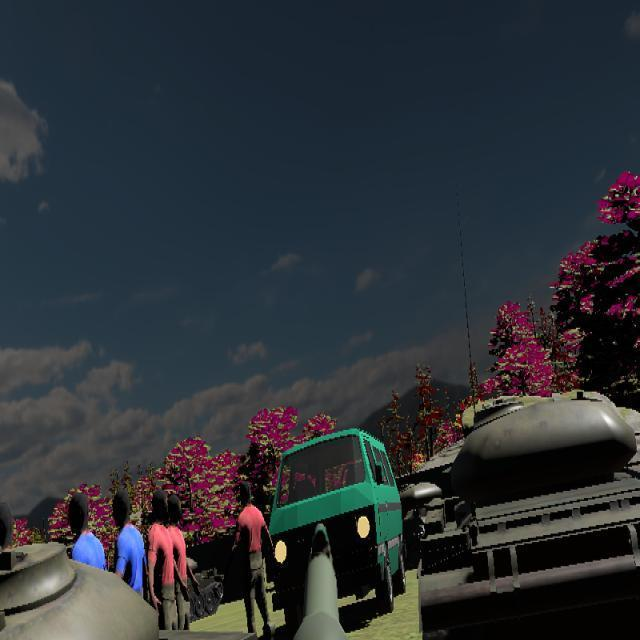Human: (229, 479, 276, 640), (149, 489, 188, 640)
Tank: (403, 381, 640, 604)
car: (268, 428, 406, 625)
